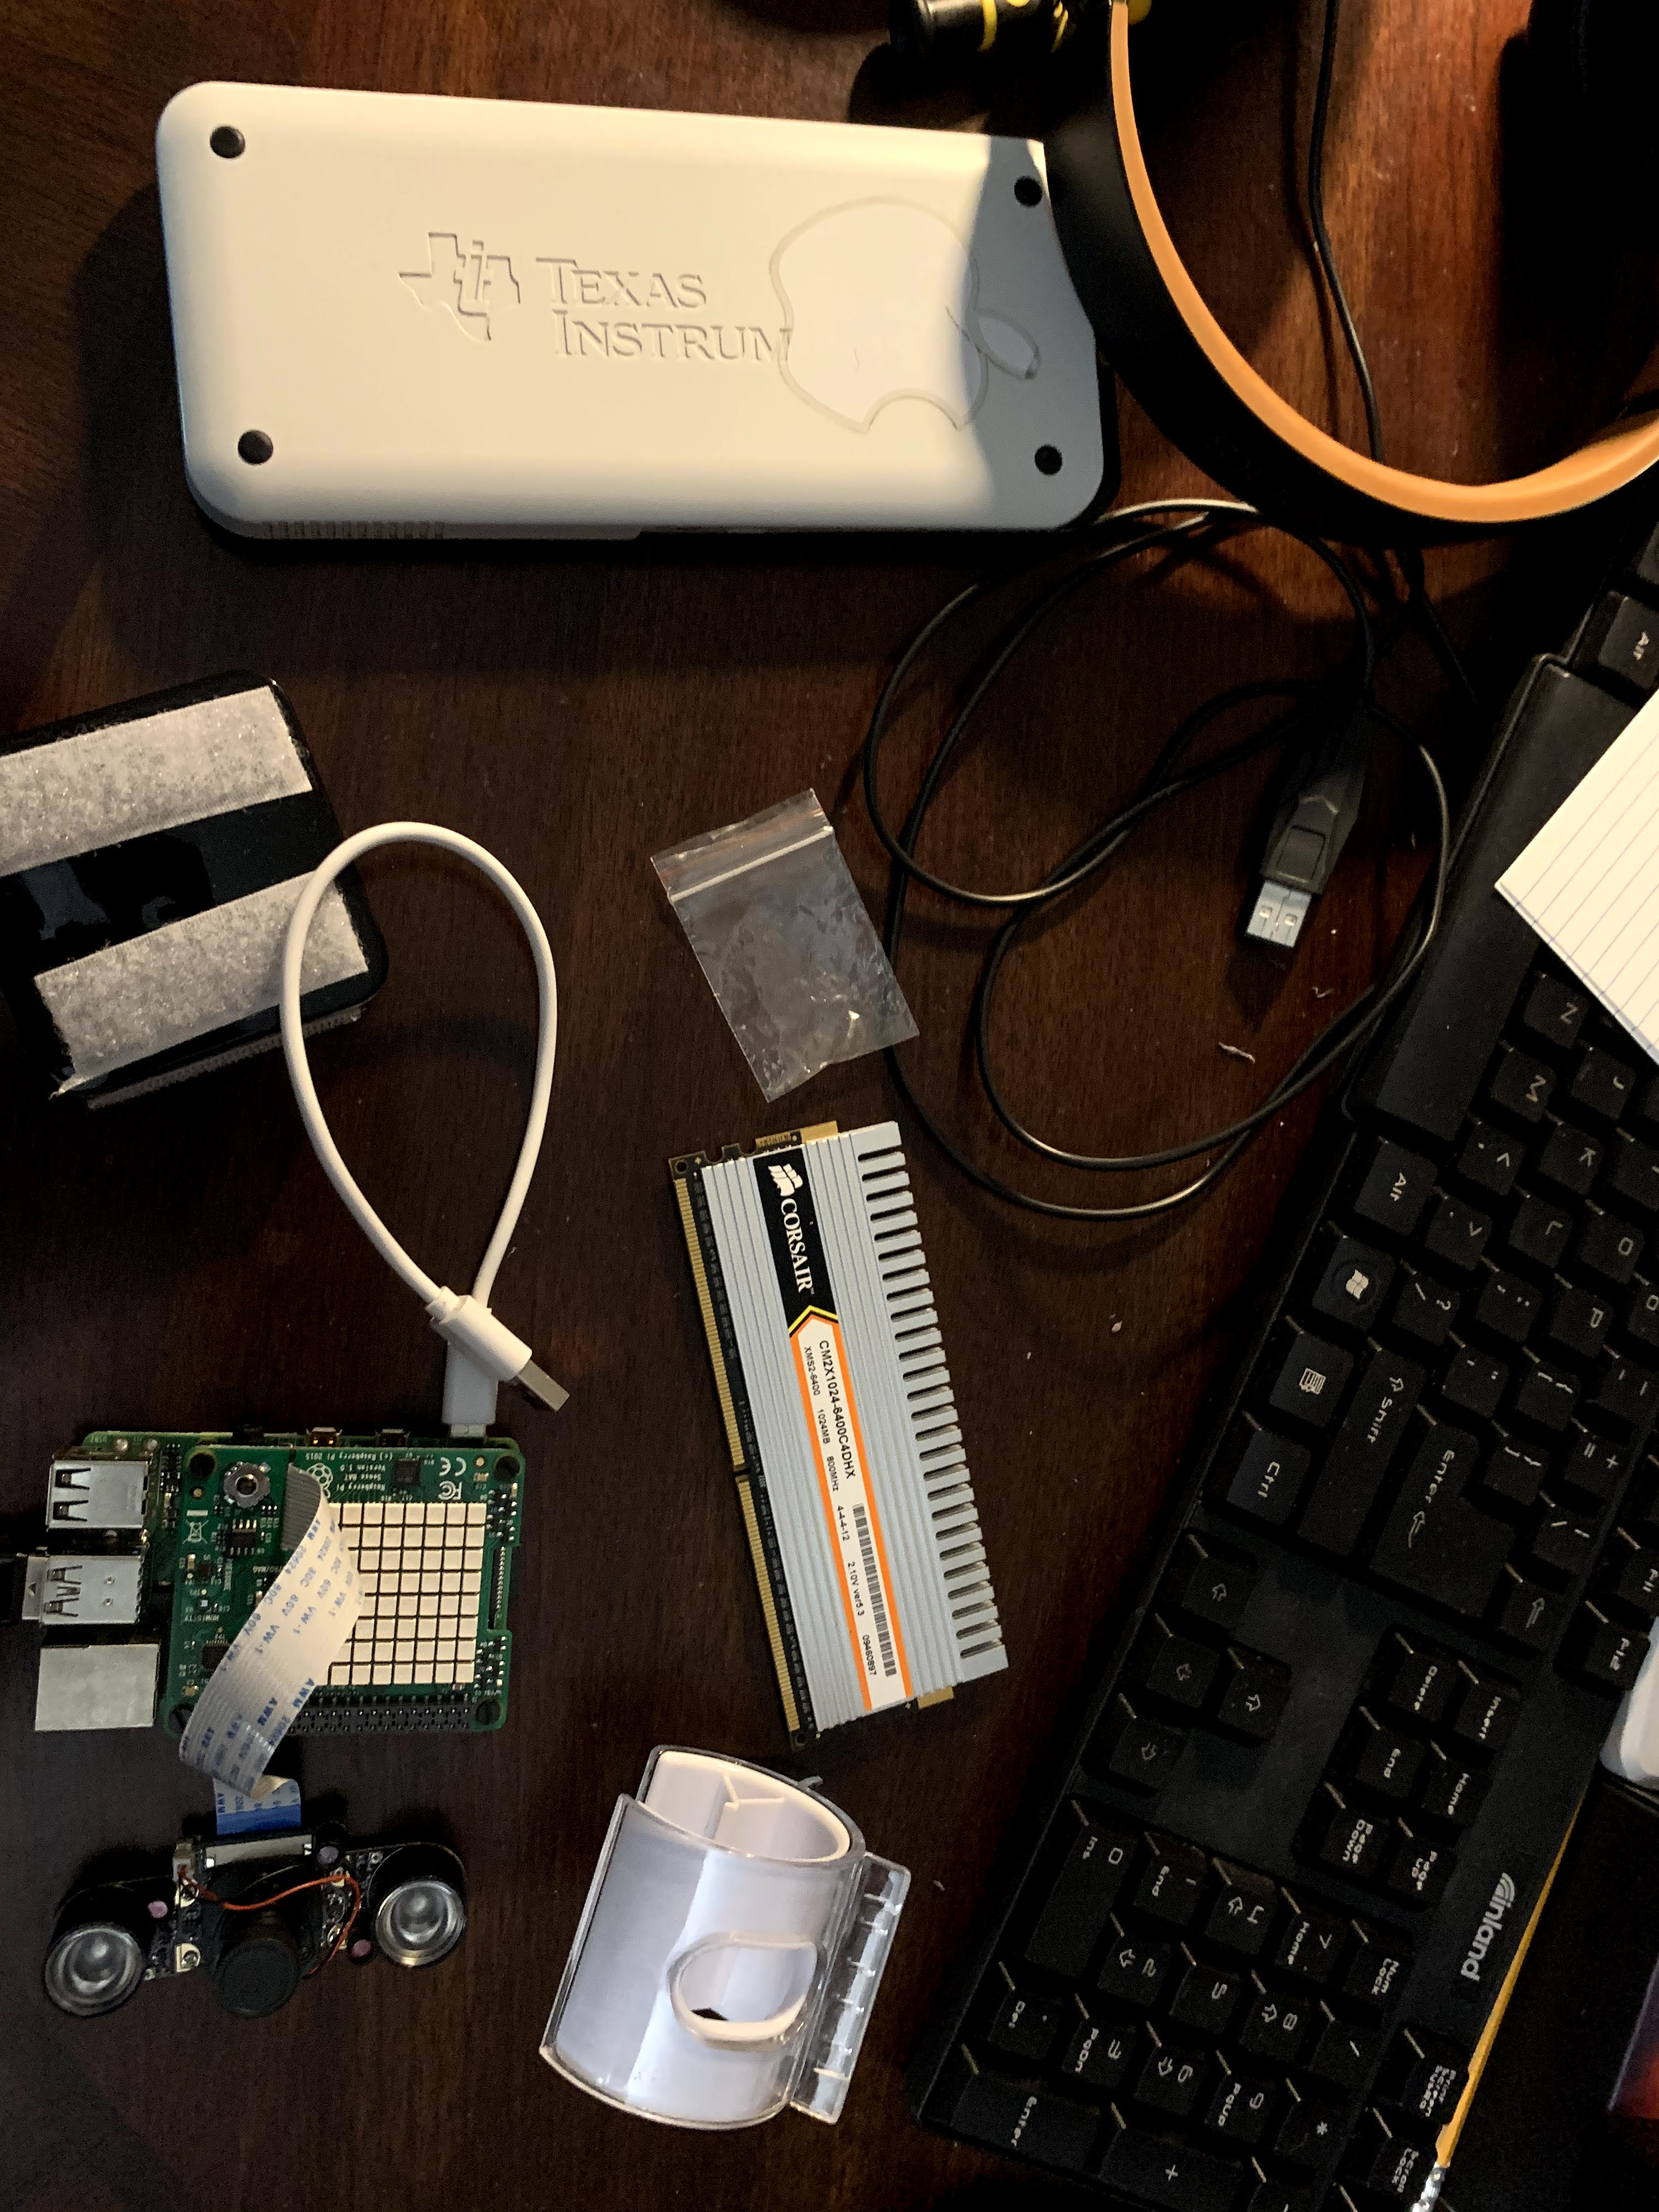Space-debris-medium: (638, 1106, 1039, 1743)
